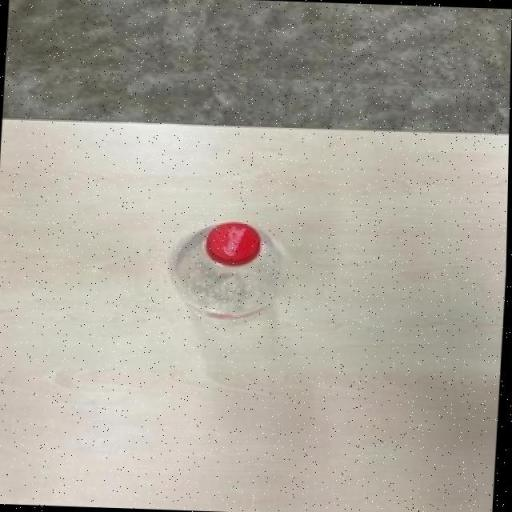plastic: (162, 212, 298, 330)
